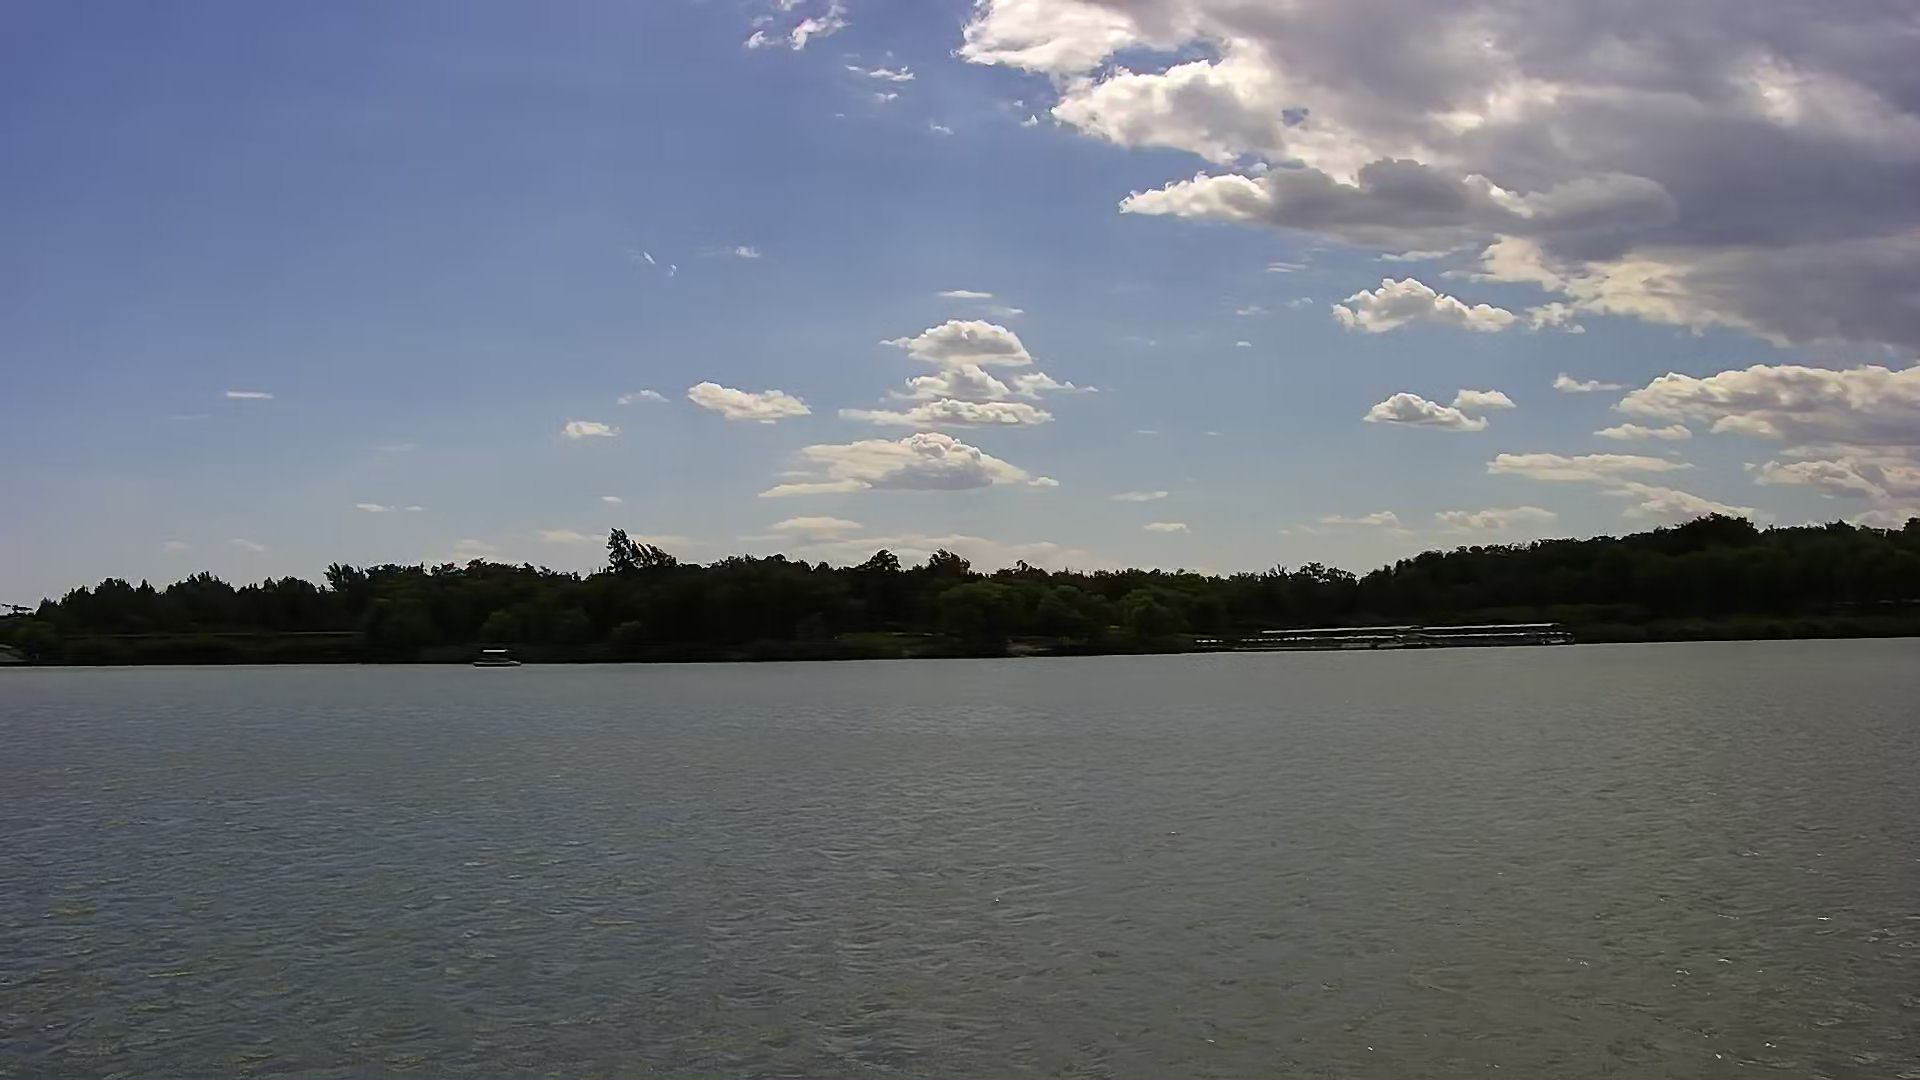boat: (469, 642, 524, 670)
harbor: (1240, 618, 1581, 655)
